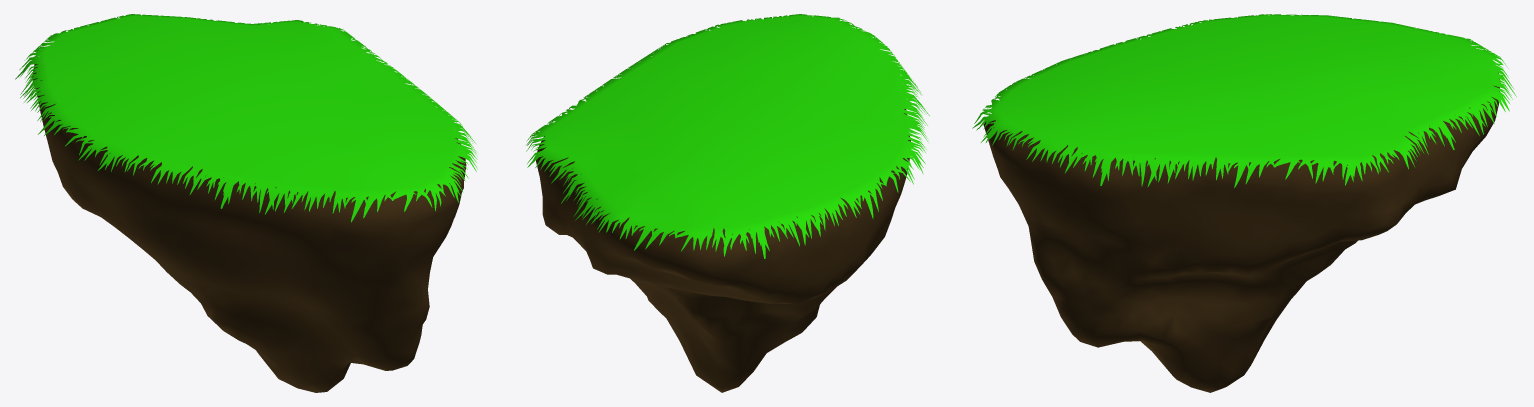
Rendered from IslandGrassSmall3.FBX.
3 renders of one model, left to right at view 1: azimuth 30°, elevation 25°; view 2: azimuth 150°, elevation 25°; view 3: azimuth 270°, elevation 25°, orthographic.
Parts seen in each view (by area): view 1: Plane026; view 2: Plane026; view 3: Plane026.
Part boxes in pixels (bbox=[...]): Plane026: bbox=[15, 14, 477, 392]; Plane026: bbox=[526, 14, 929, 392]; Plane026: bbox=[972, 14, 1516, 392].
Bounding box in the file's own units: 570 × 451 × 807.
